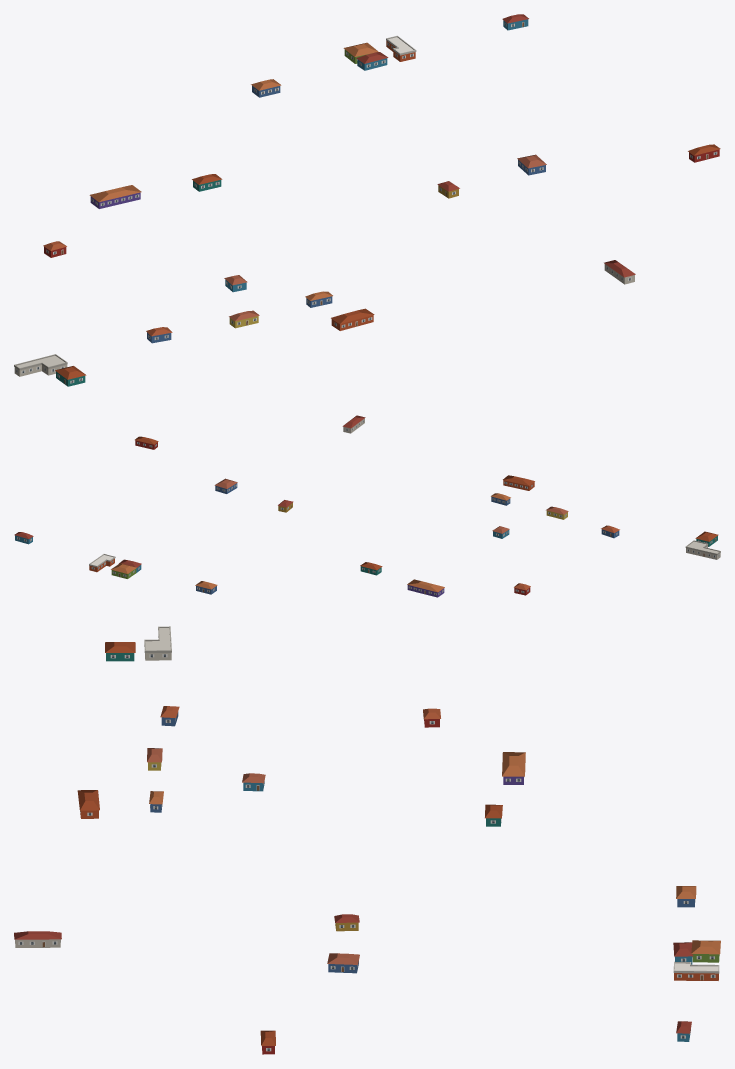
The model's file is msb_noord_m19_m5.glb.
The picture shows the model from 3 angles, top to bottom: view 1: azimuth 30°, elevation 25°; view 2: azimuth 150°, elevation 25°; view 3: azimuth 270°, elevation 25°; orthographic projection. The views are drawn at different scales.
Parts seen in each view (by area): view 1: msb_noord_m19_m5_lod0; view 2: msb_noord_m19_m5_lod0; view 3: msb_noord_m19_m5_lod0.
Part boxes in pixels (box(x1,y1,x2,y2)): msb_noord_m19_m5_lod0: box(14, 14, 720, 386); msb_noord_m19_m5_lod0: box(14, 415, 720, 597); msb_noord_m19_m5_lod0: box(14, 626, 720, 1054).
Size of what is drawn, in the model's own units: 364 by 11.29 by 255.
Materials: 3 (1 with a texture image).
